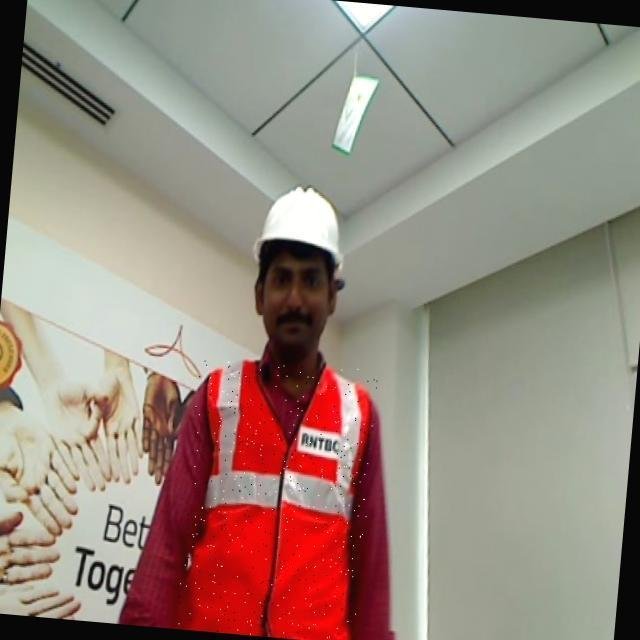helmet: (253, 177, 350, 299)
vest: (175, 353, 378, 640)
